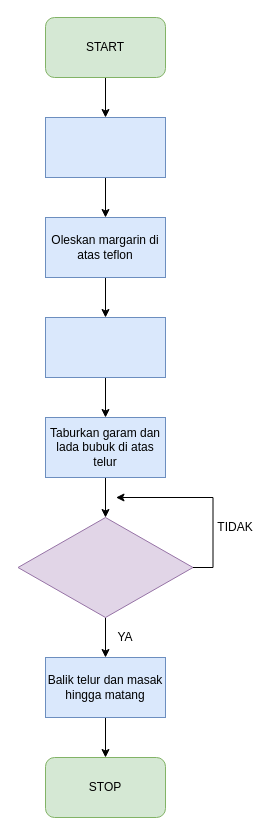
Image size: 272x835. Some labels were removed from this diagram. Here are the shapes that lost their labels. From the top down, the centre of each, then its label:
the point at 105,147: Panaskan teflon
the point at 105,347: Ceplok telur di atas teflon
the point at 105,567: Apakah bagian atas telur sudah cukup matang
